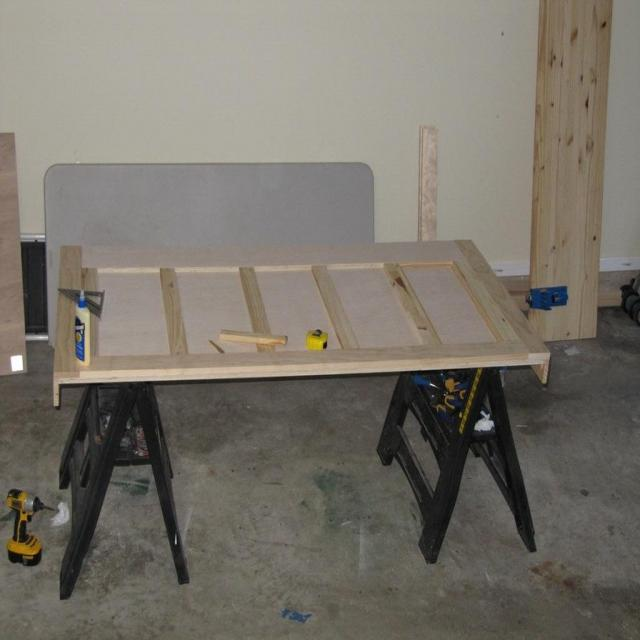table: (19, 213, 576, 604)
